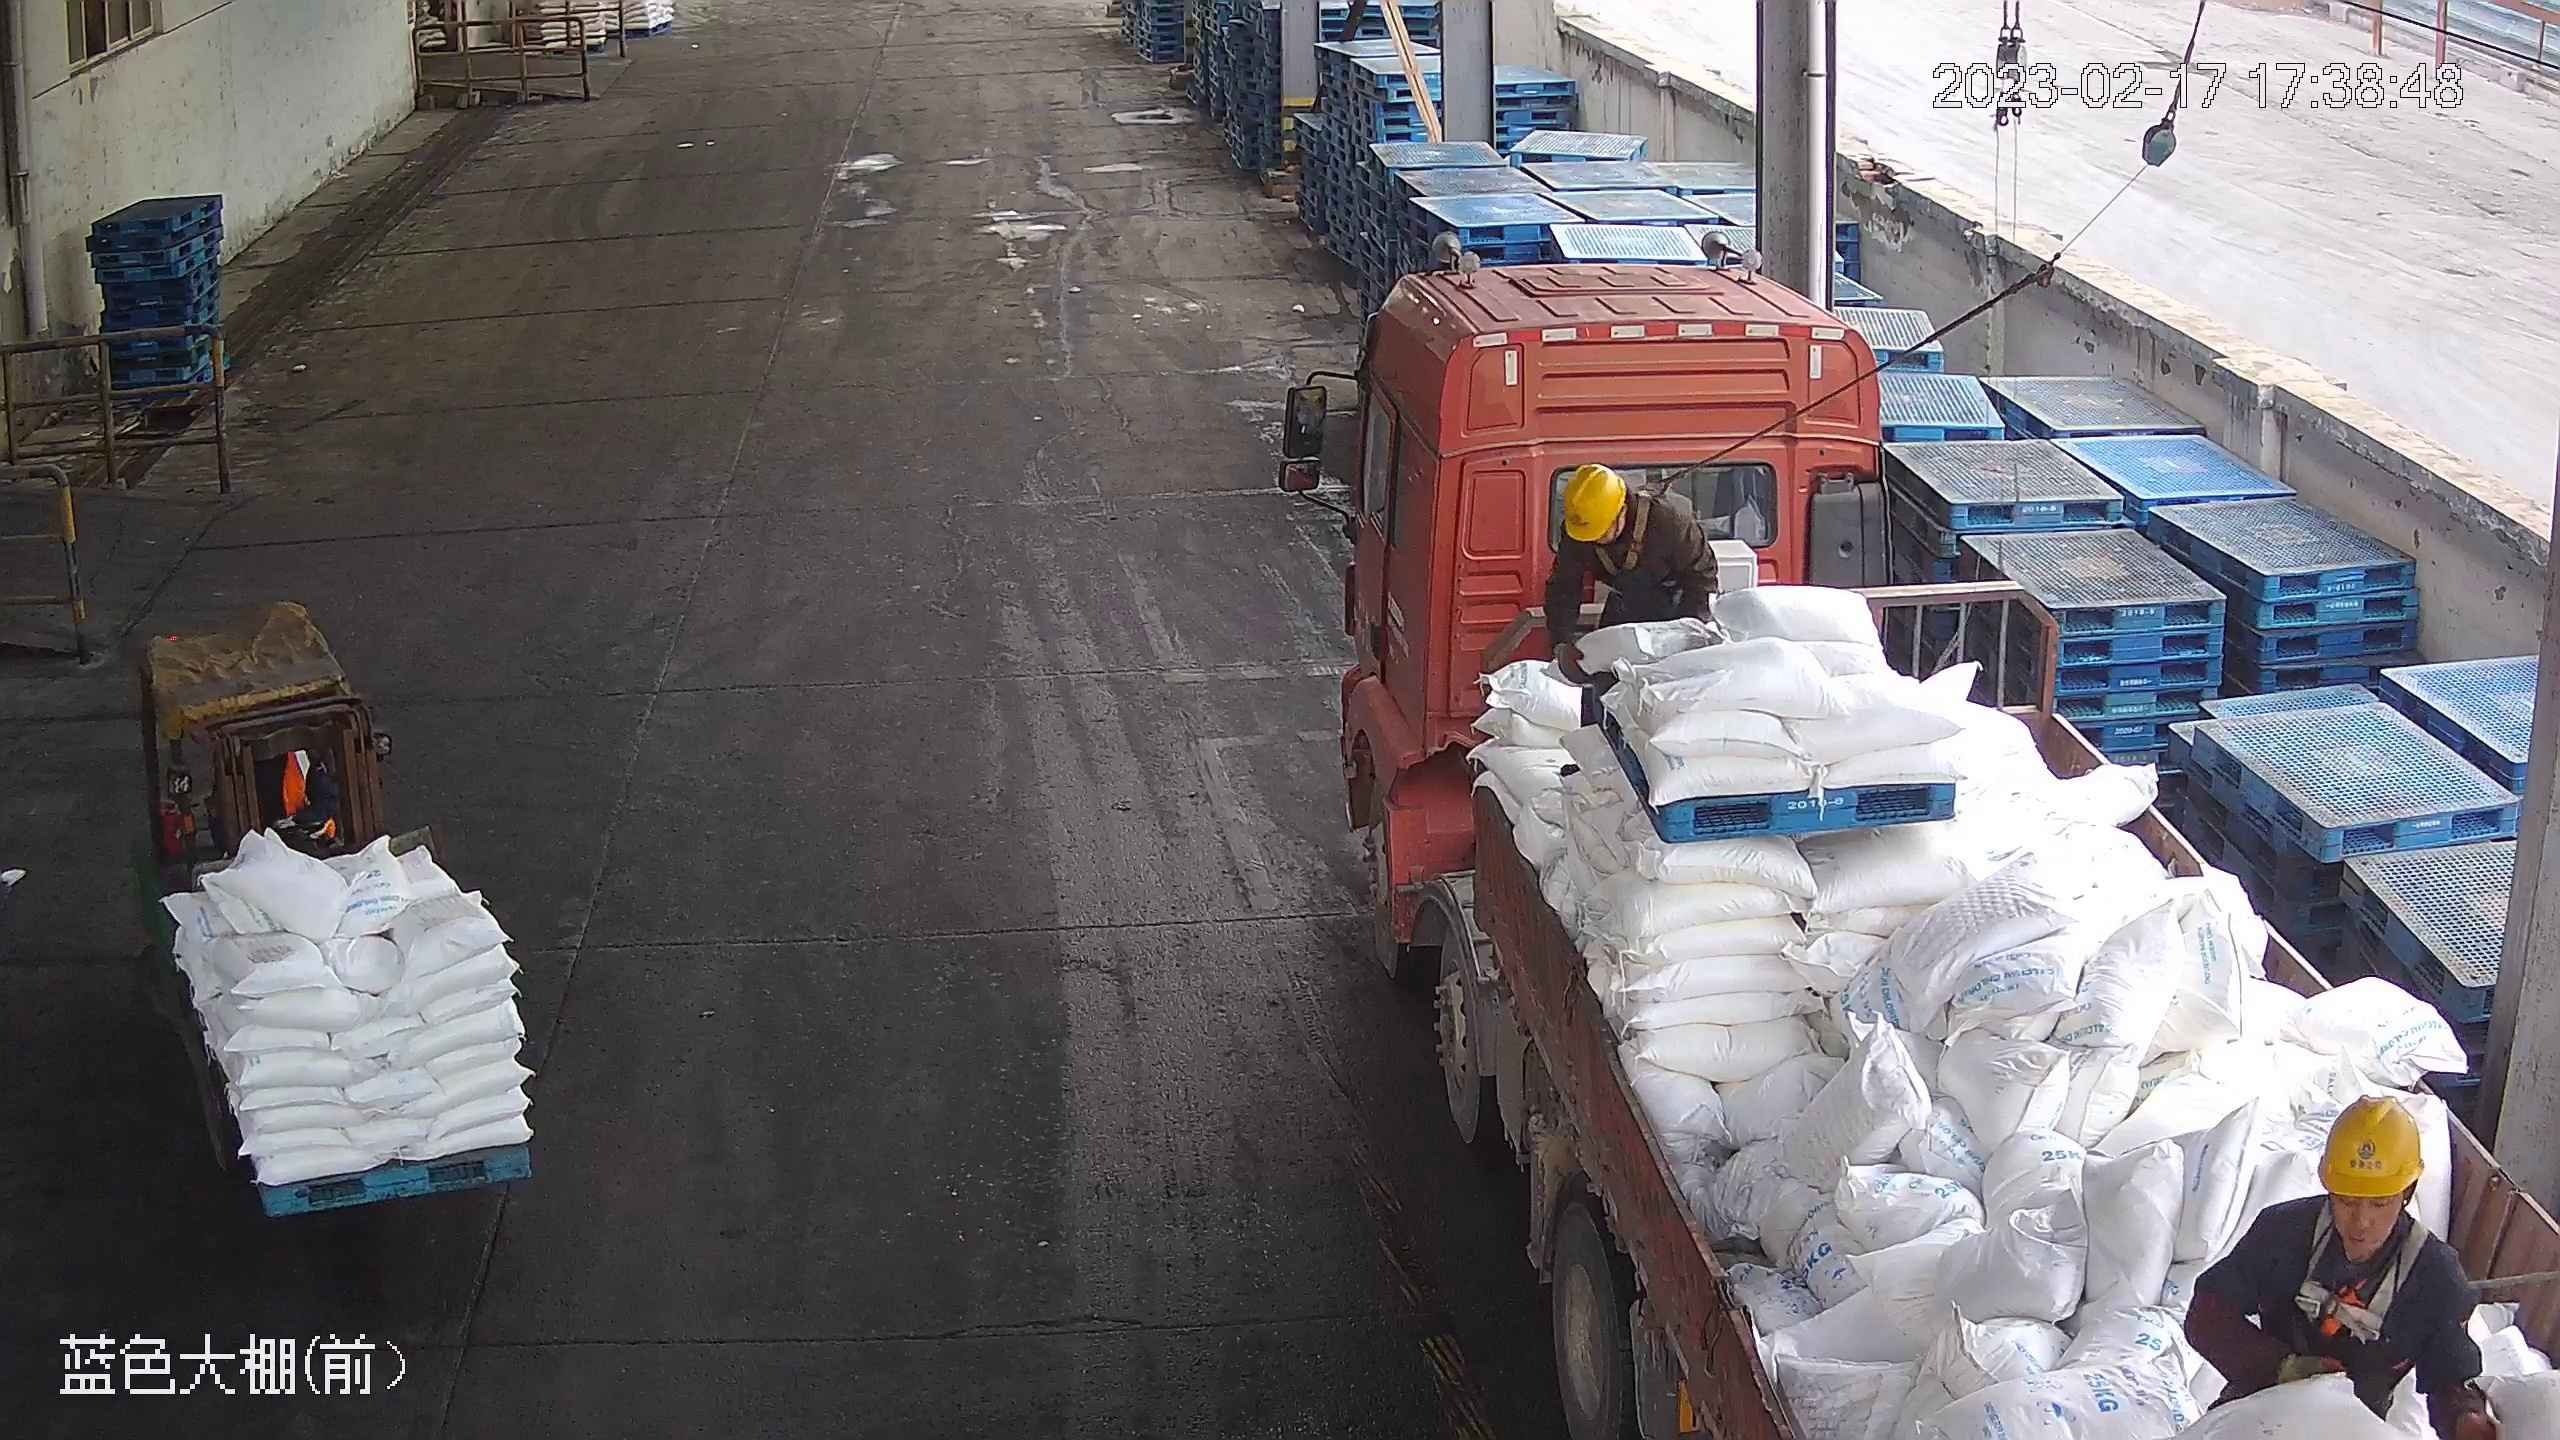belt: (2296, 1204, 2489, 1343), (1609, 465, 1691, 551)
head: (2235, 1089, 2485, 1313), (1544, 458, 1698, 561)
helmet: (2318, 1090, 2429, 1198), (1556, 460, 1627, 543)
people: (2179, 1087, 2496, 1440), (1544, 457, 1721, 730)
truck: (1337, 204, 2558, 1440)
